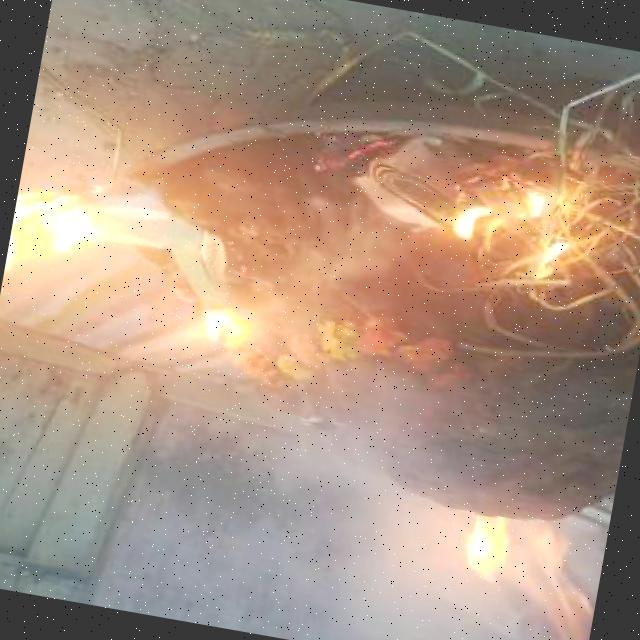fire: (3, 168, 156, 300), (452, 510, 600, 640), (450, 177, 581, 282), (179, 288, 265, 366)
